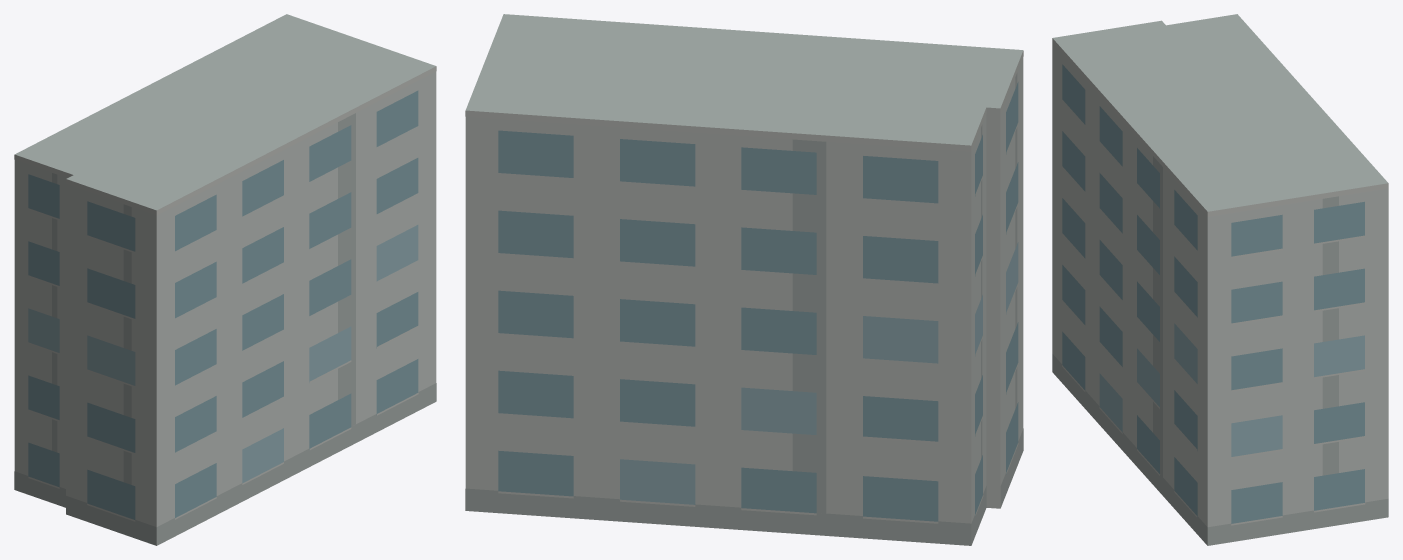
File: survey-upis-32971127.glb
3 renders of one model, left to right at view 1: azimuth 30°, elevation 25°; view 2: azimuth 150°, elevation 25°; view 3: azimuth 270°, elevation 25°, orthographic. The views are drawn at different scales.
Parts seen in each view (by area): view 1: survey-upis-32971127.tmp; view 2: survey-upis-32971127.tmp; view 3: survey-upis-32971127.tmp.
Part boxes in pixels (<box>): survey-upis-32971127.tmp: <box>14,14,436,545</box>; survey-upis-32971127.tmp: <box>465,14,1023,545</box>; survey-upis-32971127.tmp: <box>1052,14,1388,545</box>.
Size of the model in its own units: 19.69 by 15.5 by 14.15.
